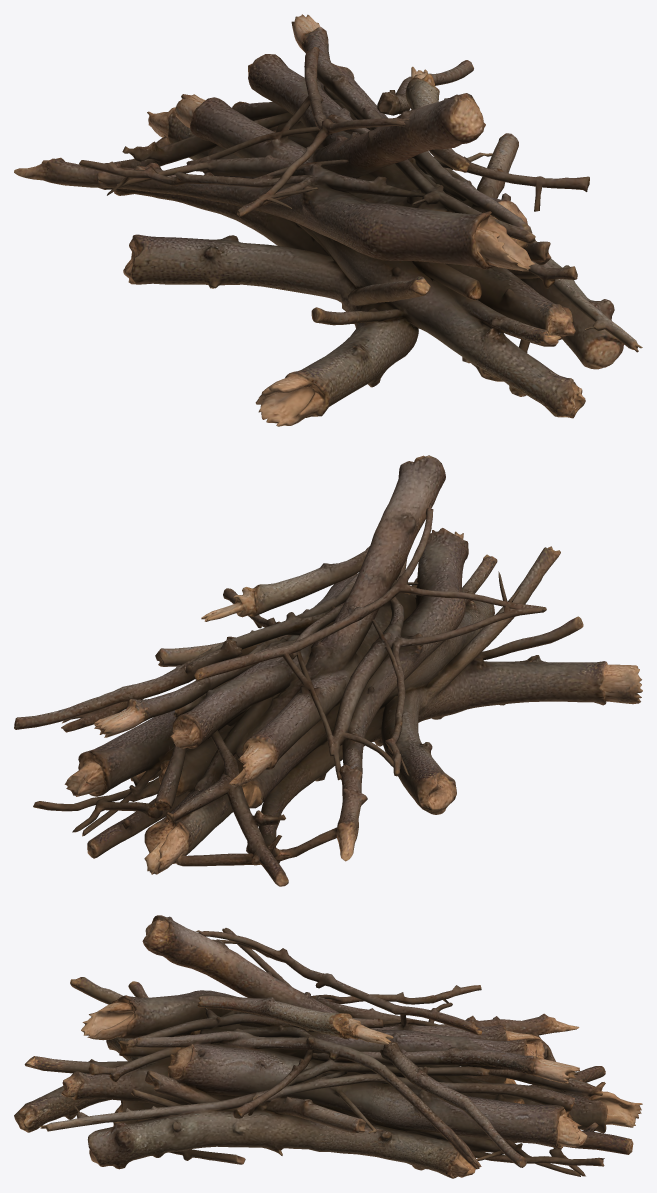
The model's file is branches-v1.glb.
3 views of the same model, one above another, from view 1: azimuth 30°, elevation 25°; view 2: azimuth 150°, elevation 25°; view 3: azimuth 270°, elevation 25° (orthographic). The views are drawn at different scales.
Visible parts, largest first — view 1: tripo_node_dff4efe5-d07e-4cb6-ad2e-e7977ca766ae; view 2: tripo_node_dff4efe5-d07e-4cb6-ad2e-e7977ca766ae; view 3: tripo_node_dff4efe5-d07e-4cb6-ad2e-e7977ca766ae.
Boxes of the visible parts, x1,y1,x2,y2 form: tripo_node_dff4efe5-d07e-4cb6-ad2e-e7977ca766ae: (14, 14, 642, 426); tripo_node_dff4efe5-d07e-4cb6-ad2e-e7977ca766ae: (14, 455, 642, 886); tripo_node_dff4efe5-d07e-4cb6-ad2e-e7977ca766ae: (14, 915, 642, 1178).
Size of the model in its own units: 0.6762 by 0.3745 by 1.
1 material, 1 textured.
